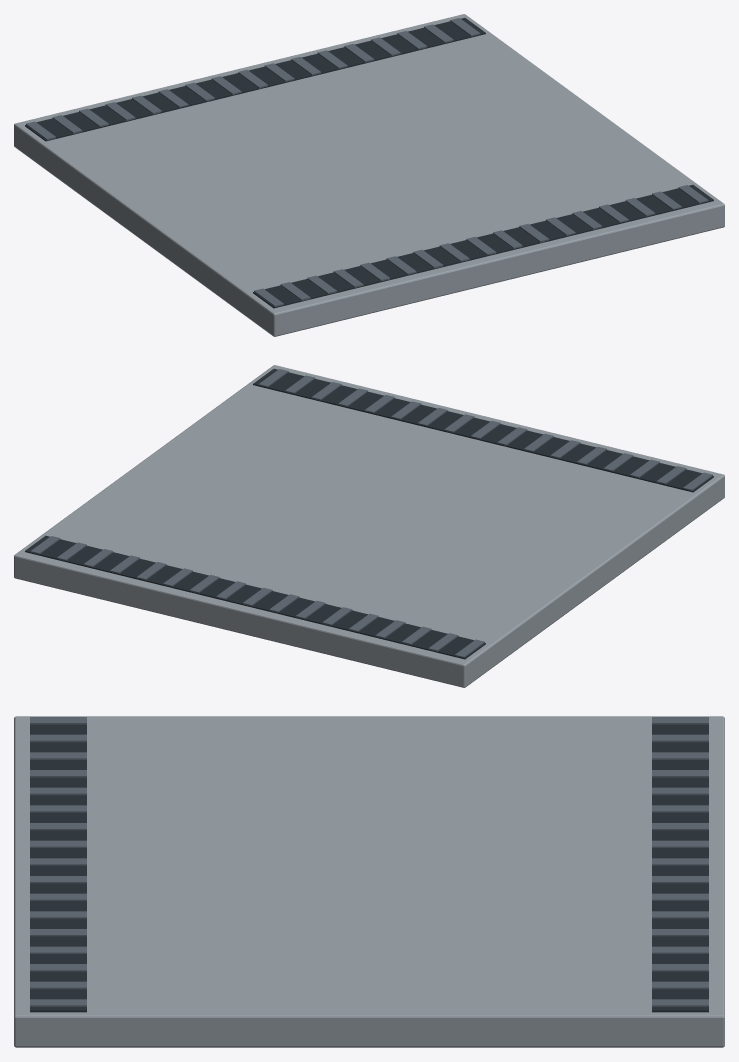
The model's file is 4_Floor.fbx.
The picture shows the model from 3 angles, top to bottom: view 1: azimuth 30°, elevation 25°; view 2: azimuth 150°, elevation 25°; view 3: azimuth 270°, elevation 25°; orthographic projection. The views are drawn at different scales.
Parts seen in each view (by area): view 1: Body; view 2: Body; view 3: Body.
Boxes of the visible parts, left/top/right/bottom form: Body: left=14, top=14, right=724, bottom=336; Body: left=14, top=365, right=724, bottom=687; Body: left=14, top=716, right=724, bottom=1047.
Size of the model in its own units: 4 by 0.2195 by 4.
